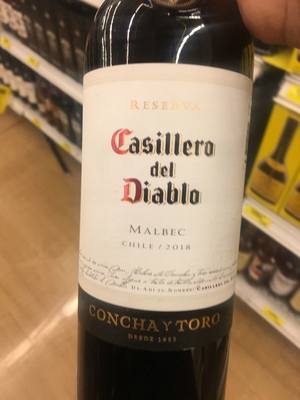casillero del diablo malbec: (71, 13, 259, 400)
